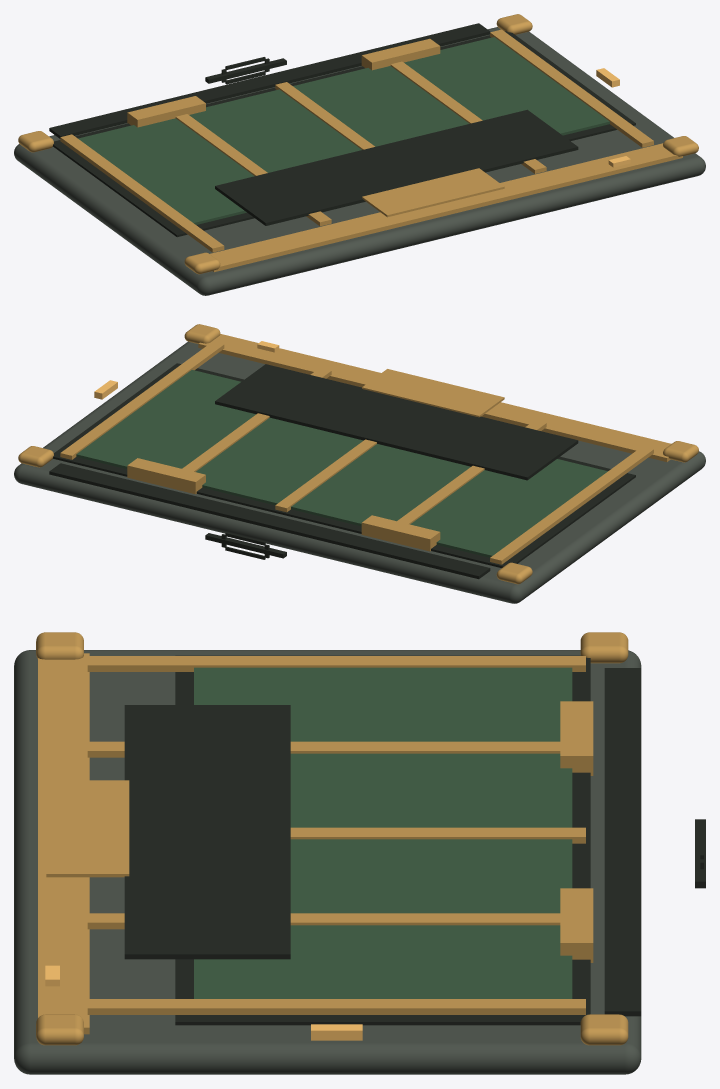
3 views of the same model, one above another, from view 1: azimuth 30°, elevation 25°; view 2: azimuth 150°, elevation 25°; view 3: azimuth 270°, elevation 25° (orthographic). The views are drawn at different scales.
Visible parts, largest first — view 1: screen-surface, laptop-body, keyboard-deck, laptop-accent, laptop-detail, screen-bezel, trackpad, rib--0.22, rib-0.22, rib-0.11, rib--0.11, hinge-right (+7 smaller); view 2: screen-surface, laptop-body, keyboard-deck, laptop-detail, laptop-accent, screen-bezel, trackpad, rib--0.22, rib-0.22, hinge-left, hinge-right, rib-0 (+7 smaller); view 3: screen-surface, laptop-body, keyboard-deck, laptop-accent, laptop-detail, screen-bezel, trackpad, rib-0.22, rib--0.22, rib--0.11, rib-0.11, rib-0 (+7 smaller).
Part boxes in pixels (x1=…): screen-surface: x1=78, y1=37, x2=609, y2=224; laptop-body: x1=14, y1=27, x2=705, y2=295; keyboard-deck: x1=215, y1=109, x2=578, y2=225; laptop-accent: x1=210, y1=143, x2=682, y2=272; laptop-detail: x1=49, y1=23, x2=490, y2=138; screen-bezel: x1=53, y1=31, x2=635, y2=237; trackpad: x1=362, y1=168, x2=504, y2=217; rib--0.22: x1=60, y1=134, x2=224, y2=252; rib-0.22: x1=490, y1=29, x2=653, y2=147; rib-0.11: x1=390, y1=61, x2=546, y2=173; rib--0.11: x1=175, y1=114, x2=331, y2=226; hinge-right: x1=361, y1=38, x2=440, y2=70; screen-surface: x1=76, y1=370, x2=607, y2=557; laptop-body: x1=14, y1=341, x2=705, y2=603; keyboard-deck: x1=215, y1=364, x2=578, y2=480; laptop-detail: x1=49, y1=463, x2=490, y2=579; laptop-accent: x1=198, y1=334, x2=671, y2=461; screen-bezel: x1=53, y1=363, x2=635, y2=567; trackpad: x1=362, y1=369, x2=504, y2=417; rib--0.22: x1=490, y1=446, x2=653, y2=564; rib-0.22: x1=60, y1=341, x2=224, y2=459; hinge-left: x1=361, y1=515, x2=440, y2=551; hinge-right: x1=127, y1=458, x2=205, y2=494; rib-0: x1=275, y1=439, x2=376, y2=512; screen-surface: x1=194, y1=667, x2=572, y2=998; laptop-body: x1=14, y1=650, x2=641, y2=1074; keyboard-deck: x1=124, y1=705, x2=290, y2=959; laptop-accent: x1=38, y1=653, x2=89, y2=1034; laptop-detail: x1=604, y1=668, x2=641, y2=1016; screen-bezel: x1=175, y1=655, x2=590, y2=1025; trackpad: x1=46, y1=780, x2=129, y2=877; rib-0.22: x1=87, y1=999, x2=585, y2=1014; rib--0.22: x1=87, y1=656, x2=585, y2=671; rib--0.11: x1=87, y1=741, x2=560, y2=757; rib-0.11: x1=87, y1=913, x2=560, y2=929; rib-0: x1=290, y1=827, x2=585, y2=843.
Size of the model in its own units: 0.521 by 0.033 by 0.375.
